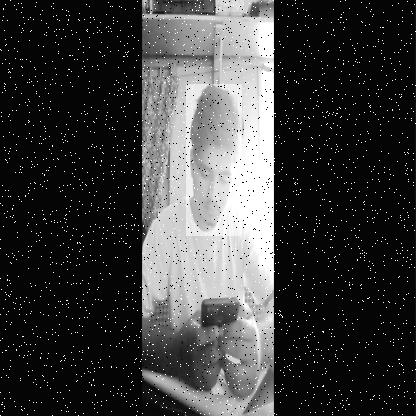Normal: (186, 84, 242, 236)
